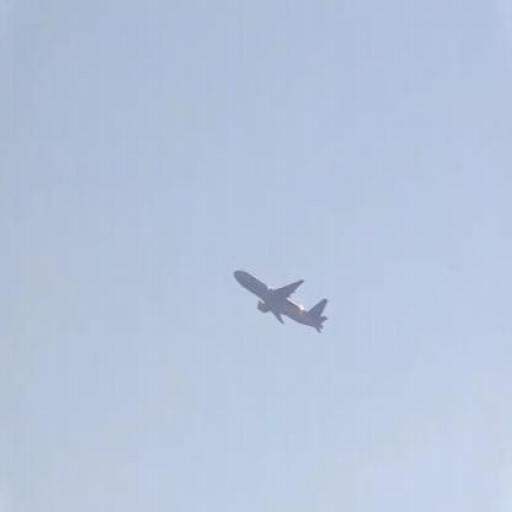aircraft: (230, 256, 331, 335)
